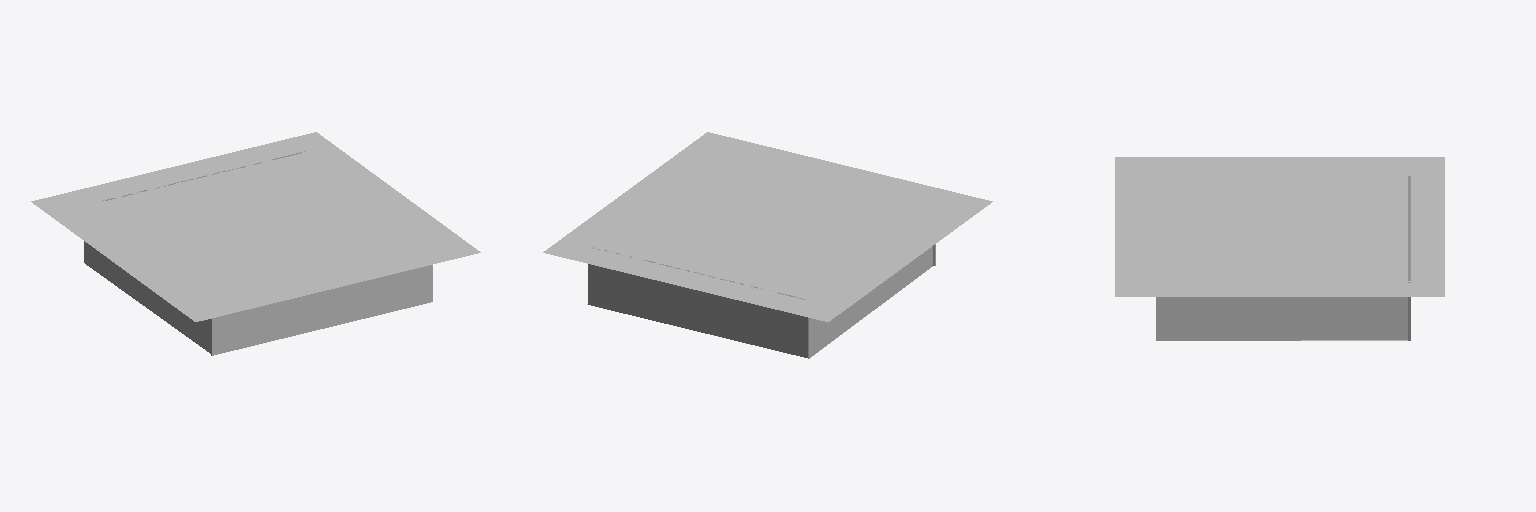
The model's file is hall3.obj.
3 views of the same model, side by side, from view 1: azimuth 30°, elevation 25°; view 2: azimuth 150°, elevation 25°; view 3: azimuth 270°, elevation 25° (orthographic).
Visible parts, largest first — view 1: Plane.001_Plane.002, Cube.001, Cube.004; view 2: Plane.001_Plane.002, Cube.002, Cube.004; view 3: Plane.001_Plane.002, Cube.003.
Part boxes in pixels (x1,y1,x2,y2): Plane.001_Plane.002: (31, 132, 480, 321); Cube.001: (211, 245, 430, 355); Cube.004: (84, 205, 213, 355); Plane.001_Plane.002: (543, 132, 992, 321); Cube.002: (588, 247, 808, 358); Cube.004: (807, 216, 932, 358); Plane.001_Plane.002: (1115, 157, 1444, 296); Cube.003: (1156, 281, 1410, 340).
Size of the model in its own units: 259 by 50 by 259.